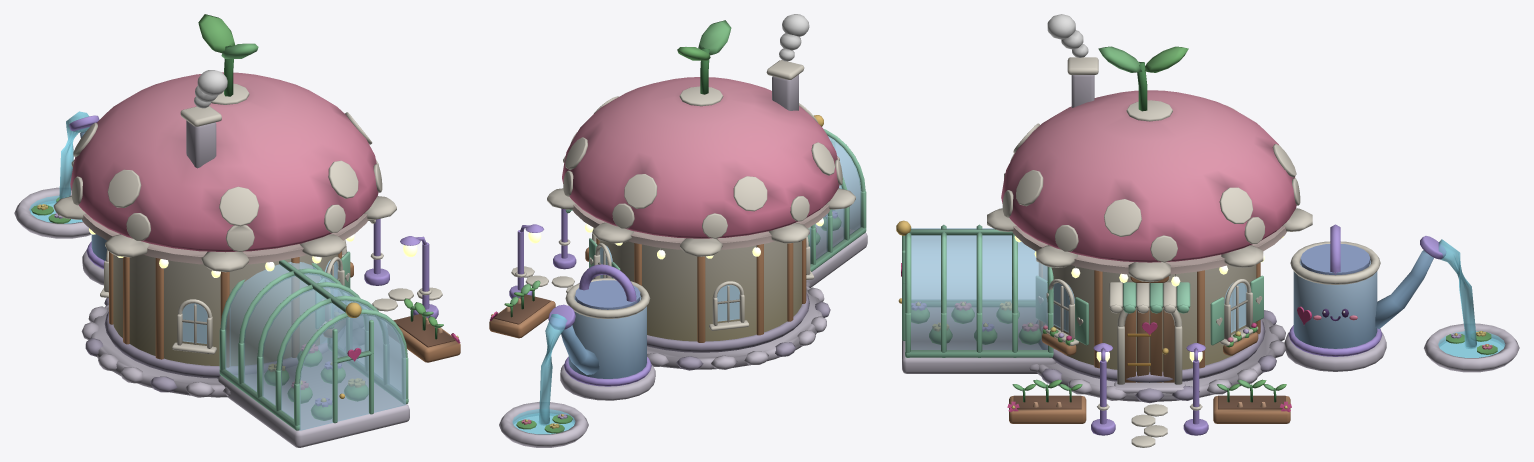
Rendered from whisperwood-cottage.glb.
3 views of the same model, side by side, from view 1: azimuth 30°, elevation 25°; view 2: azimuth 150°, elevation 25°; view 3: azimuth 270°, elevation 25° (orthographic). The views are drawn at different scales.
Parts seen in each view (by area): view 1: W_WHISPERWOOD_COTTAGE__body; view 2: W_WHISPERWOOD_COTTAGE__body; view 3: W_WHISPERWOOD_COTTAGE__body.
Boxes of the visible parts, x1,y1,x2,y2 form: W_WHISPERWOOD_COTTAGE__body: (14,14,460,447); W_WHISPERWOOD_COTTAGE__body: (489,14,867,447); W_WHISPERWOOD_COTTAGE__body: (896,14,1519,447).
Bounding box in the file's own units: 1.26 × 1.09 × 2.
